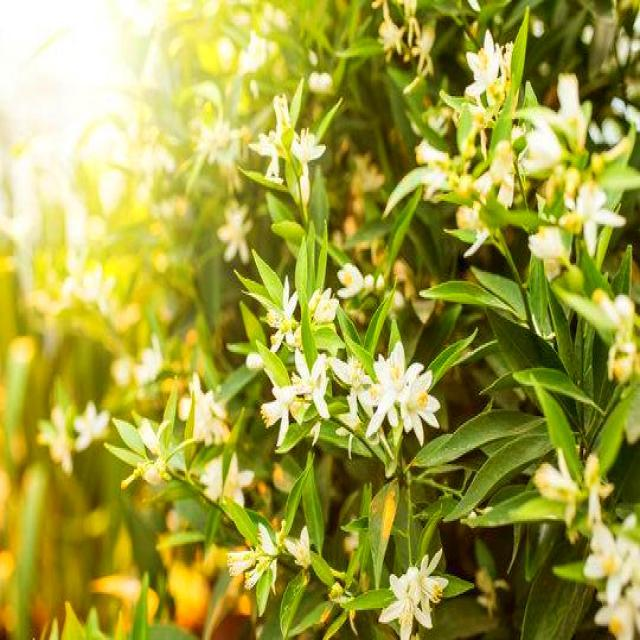Bunga: (522, 85, 586, 178), (568, 183, 624, 249), (586, 522, 636, 594), (371, 342, 415, 422), (290, 348, 334, 422), (206, 450, 254, 516), (536, 453, 580, 523), (251, 96, 292, 171), (384, 572, 427, 640), (262, 277, 299, 352), (464, 30, 506, 94), (405, 368, 440, 444), (228, 530, 272, 590), (478, 148, 522, 208), (411, 550, 447, 620), (595, 585, 640, 640), (332, 354, 372, 412), (216, 206, 255, 265), (262, 368, 290, 450), (528, 226, 568, 280), (188, 377, 220, 441), (132, 456, 176, 494), (596, 288, 631, 331), (292, 130, 324, 168), (308, 288, 337, 327), (138, 419, 170, 454), (414, 139, 450, 169), (337, 263, 365, 299), (288, 528, 313, 567)
